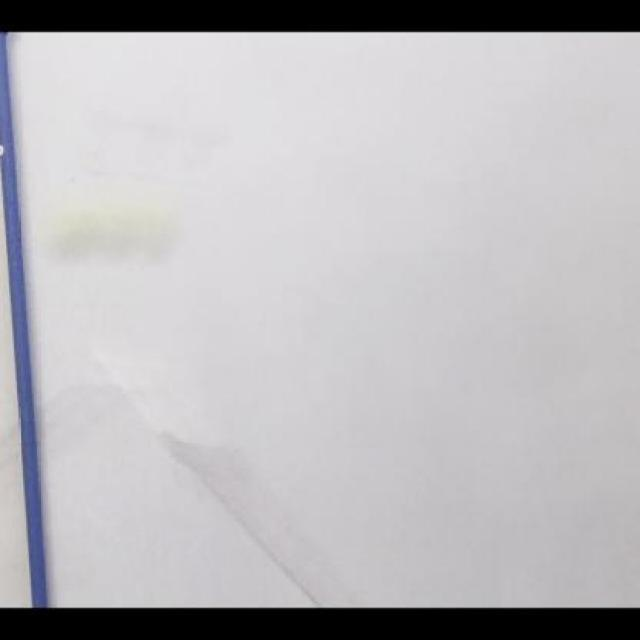baseball: (47, 172, 175, 270)
